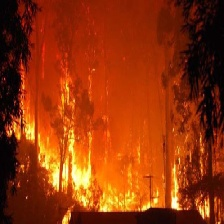fire: (9, 113, 201, 220)
